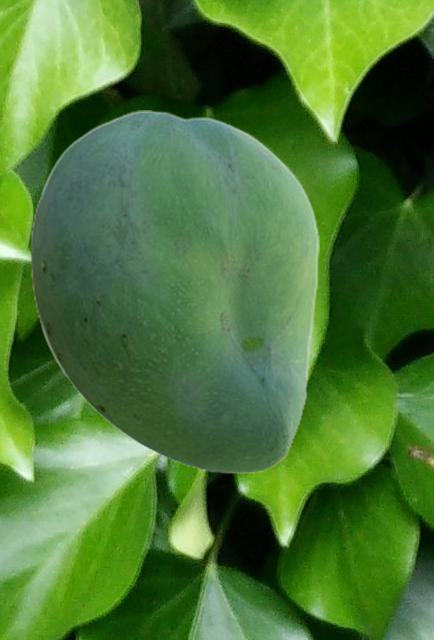green_mango: (30, 110, 318, 473)
